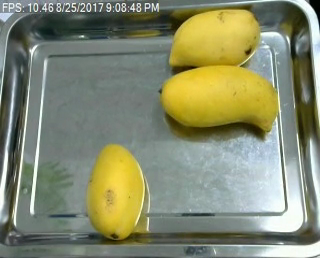Mango: (160, 64, 279, 137), (83, 141, 148, 240), (170, 7, 262, 68)
